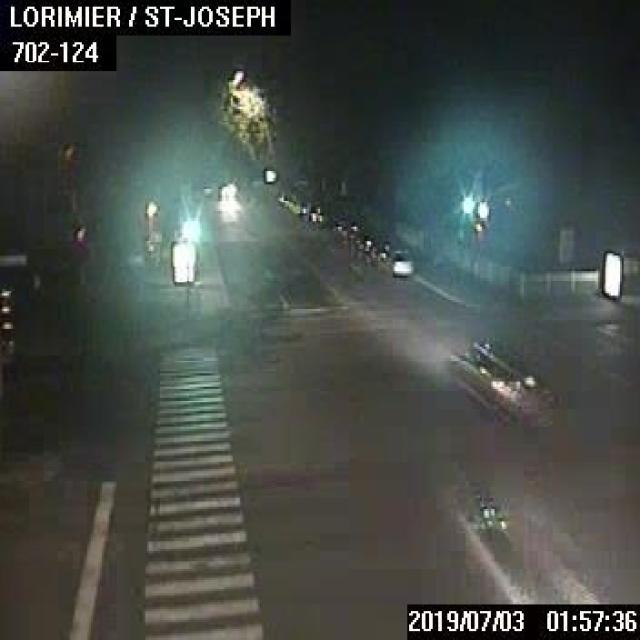vehicle: (447, 338, 549, 424), (376, 248, 413, 276), (358, 238, 386, 262)
